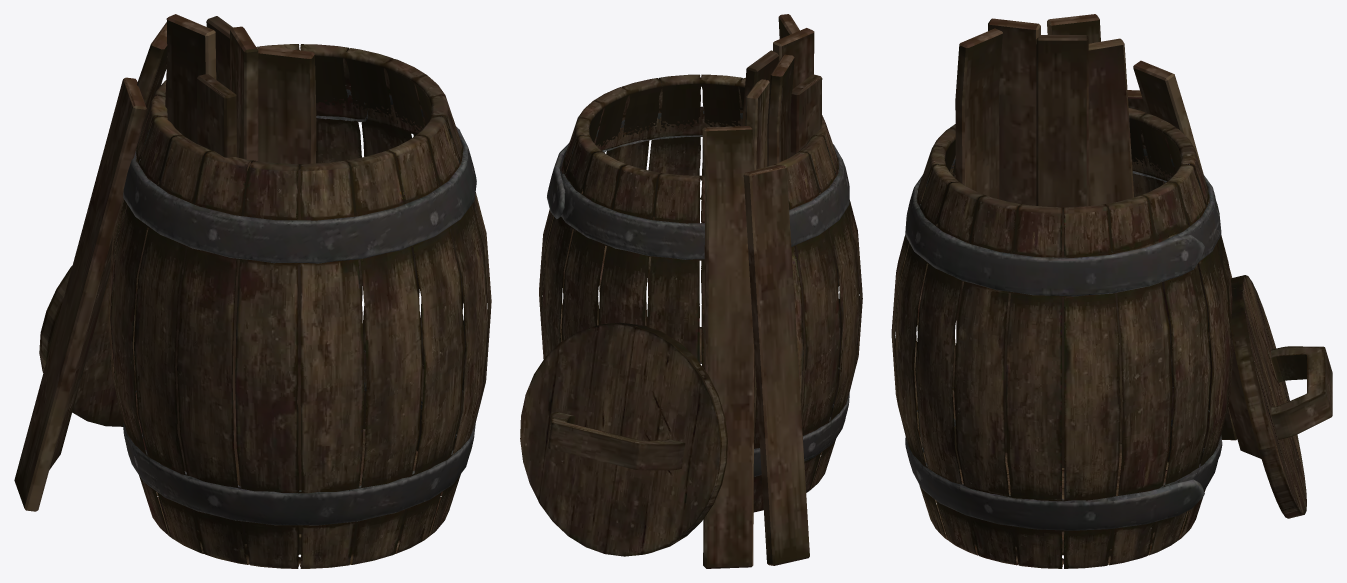
3 views of the same model, side by side, from view 1: azimuth 30°, elevation 25°; view 2: azimuth 150°, elevation 25°; view 3: azimuth 270°, elevation 25° (orthographic). The views are drawn at different scales.
Parts seen in each view (by area): view 1: SM_Garou_Barrel_02_LOD0; view 2: SM_Garou_Barrel_02_LOD0; view 3: SM_Garou_Barrel_02_LOD0.
Boxes of the visible parts, x1,y1,x2,y2 form: SM_Garou_Barrel_02_LOD0: (14, 14, 491, 568); SM_Garou_Barrel_02_LOD0: (520, 14, 862, 568); SM_Garou_Barrel_02_LOD0: (891, 14, 1332, 568).
Size of the model in its own units: 1.38 by 1.86 by 1.6.
1 material, 1 textured.
